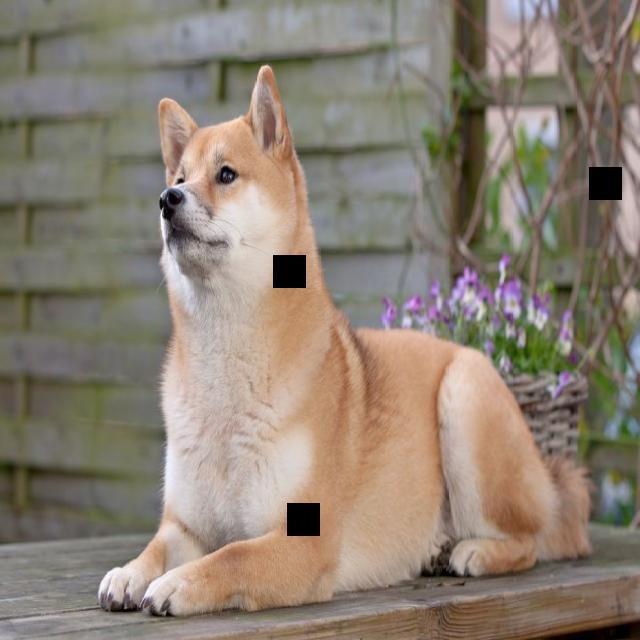adult_dog: (84, 63, 605, 627)
